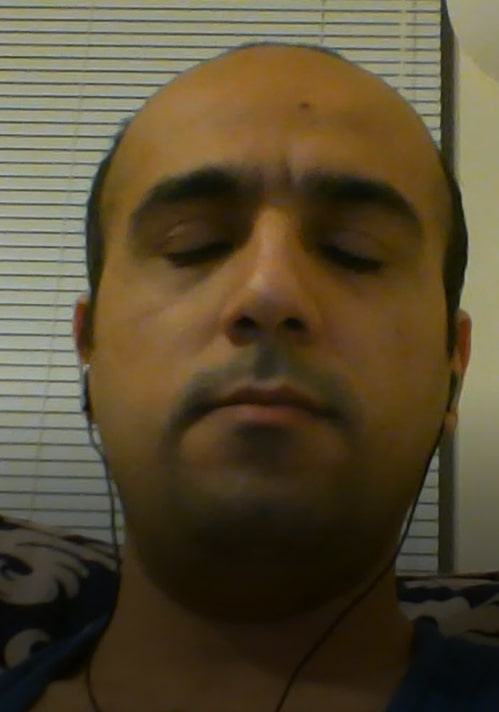Sleeping: (134, 159, 416, 297)
